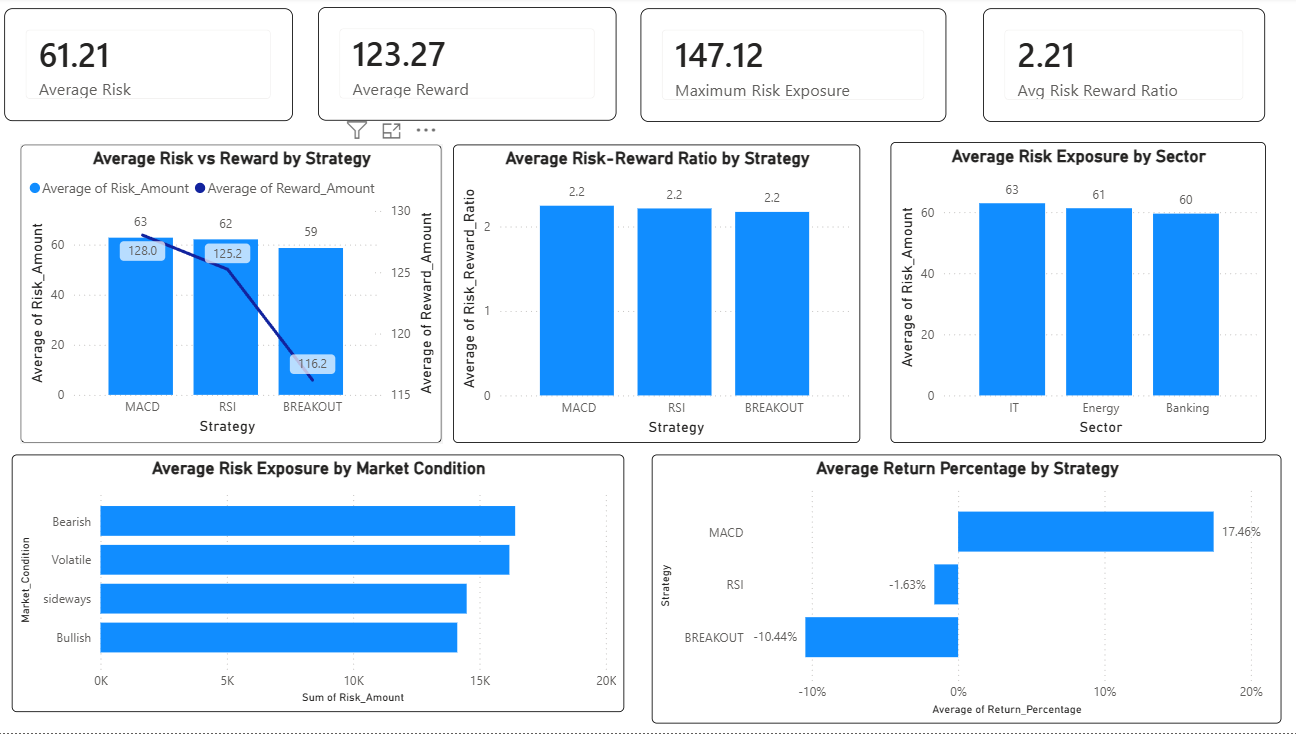

Layout of this report page (visuals, bound fields, positions):
{"tool":"powerbi","page":{"name":"Risk Analytics","canvas":[1280,720],"ordinal":2},"visuals":[{"type":"lineStackedColumnComboChart","title":"Average Risk vs Reward by Strategy","fields":{"Category":["trading_dataset_final.Strategy"],"Y":["Avg(trading_dataset_final.Risk_Amount)"],"Y2":["Avg(trading_dataset_final.Reward_Amount)"]},"box":[22,144.3,412.1,292.3],"z":0},{"type":"columnChart","title":"Average Risk Exposure by Sector","fields":{"Category":["trading_dataset_final.Sector"],"Y":["Avg(trading_dataset_final.Risk_Amount)"]},"box":[873.1,141.8,366.8,294.7],"z":1000},{"type":"clusteredColumnChart","title":"Average Risk-Reward Ratio by Strategy","fields":{"Category":["trading_dataset_final.Strategy"],"Y":["Avg(trading_dataset_final.Risk_Reward_Ratio)"]},"box":[445.1,144.3,398.6,292.3],"z":2000},{"type":"barChart","title":"Average Return Percentage by Strategy","fields":{"Category":["trading_dataset_final.Strategy"],"Y":["Avg(trading_dataset_final.Return_Percentage)"]},"box":[639.5,447.6,616.3,262.9],"z":3000},{"type":"cardVisual","fields":{"Data":["trading_dataset_final.Average Risk"]},"box":[6.1,11,282.5,110.1],"z":4000},{"type":"cardVisual","fields":{"Data":["trading_dataset_final.Average Reward"]},"box":[313,9.8,292.3,111.3],"z":5000},{"type":"cardVisual","fields":{"Data":["trading_dataset_final.Avg Risk Reward Ratio"]},"box":[963.6,11,276.4,111.3],"z":6000},{"type":"cardVisual","fields":{"Data":["trading_dataset_final.Highest Risk Trade"]},"box":[628.5,11,299.6,111.3],"z":7000},{"type":"clusteredBarChart","title":"Average Risk Exposure by Market Condition","fields":{"Category":["trading_dataset_final.Market_Condition"],"Y":["Sum(trading_dataset_final.Risk_Amount)"]},"box":[13.4,447.1,599.2,251.9],"z":8000}]}

Visuals, with their boxes in screenshot pixels (x1, y1, x2, y2), scaled from the page's 1280x720 canvas onto the 1296x734 screenshot:
"Average Risk vs Reward by Strategy" lineStackedColumnComboChart: pyautogui.locateOnScreen(22, 147, 440, 445)
"Average Risk Exposure by Sector" columnChart: pyautogui.locateOnScreen(884, 145, 1255, 445)
"Average Risk-Reward Ratio by Strategy" clusteredColumnChart: pyautogui.locateOnScreen(451, 147, 854, 445)
"Average Return Percentage by Strategy" barChart: pyautogui.locateOnScreen(647, 456, 1271, 724)
cardVisual - trading_dataset_final.Average Risk: pyautogui.locateOnScreen(6, 11, 292, 123)
cardVisual - trading_dataset_final.Average Reward: pyautogui.locateOnScreen(317, 10, 613, 123)
cardVisual - trading_dataset_final.Avg Risk Reward Ratio: pyautogui.locateOnScreen(976, 11, 1256, 125)
cardVisual - trading_dataset_final.Highest Risk Trade: pyautogui.locateOnScreen(636, 11, 940, 125)
"Average Risk Exposure by Market Condition" clusteredBarChart: pyautogui.locateOnScreen(14, 456, 620, 713)
